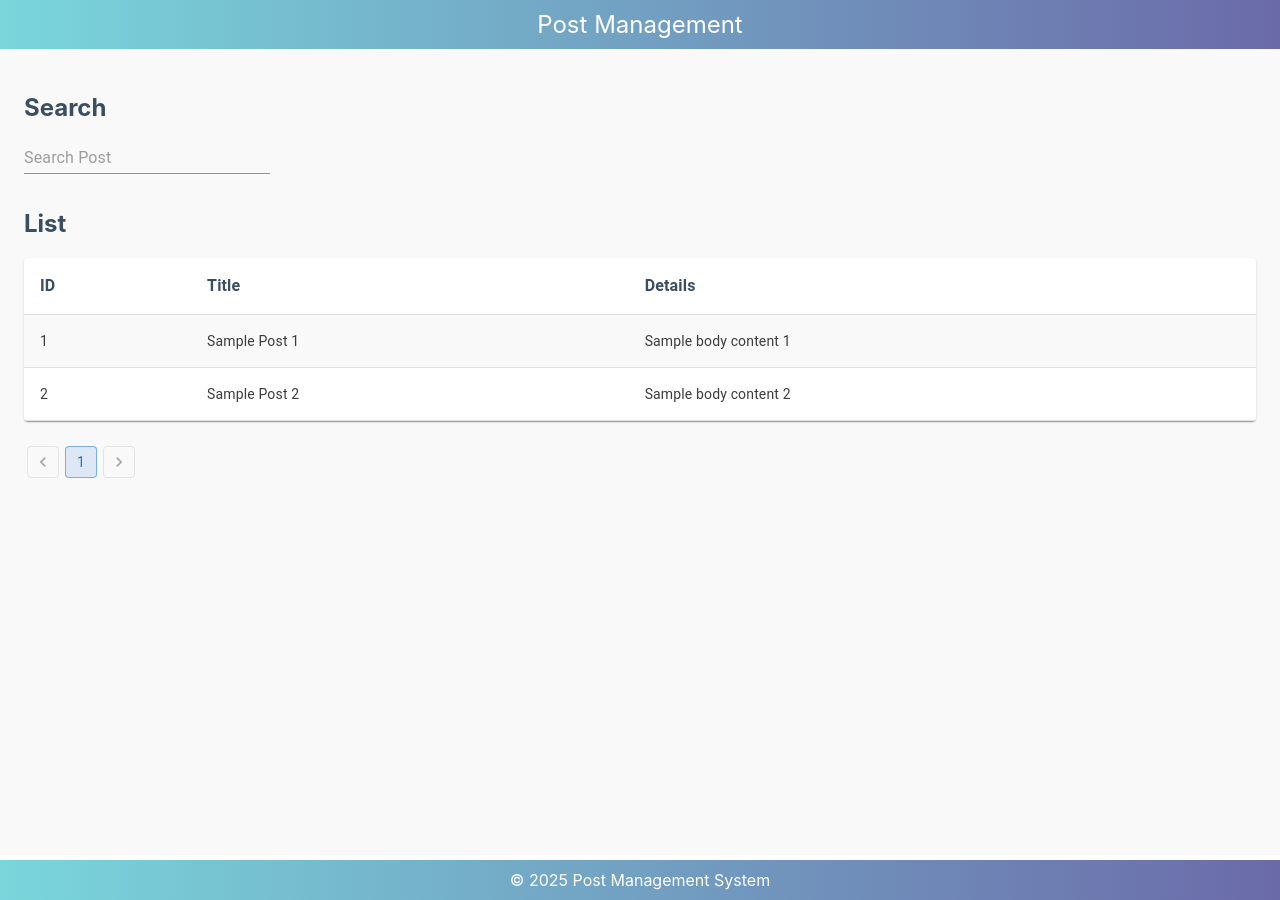
Scenario: PostList Component › filters posts based on search input
In the field with placeholder "Search Post": (147, 158) top-left (24, 142), bottom-right (270, 174), type "Post 1"
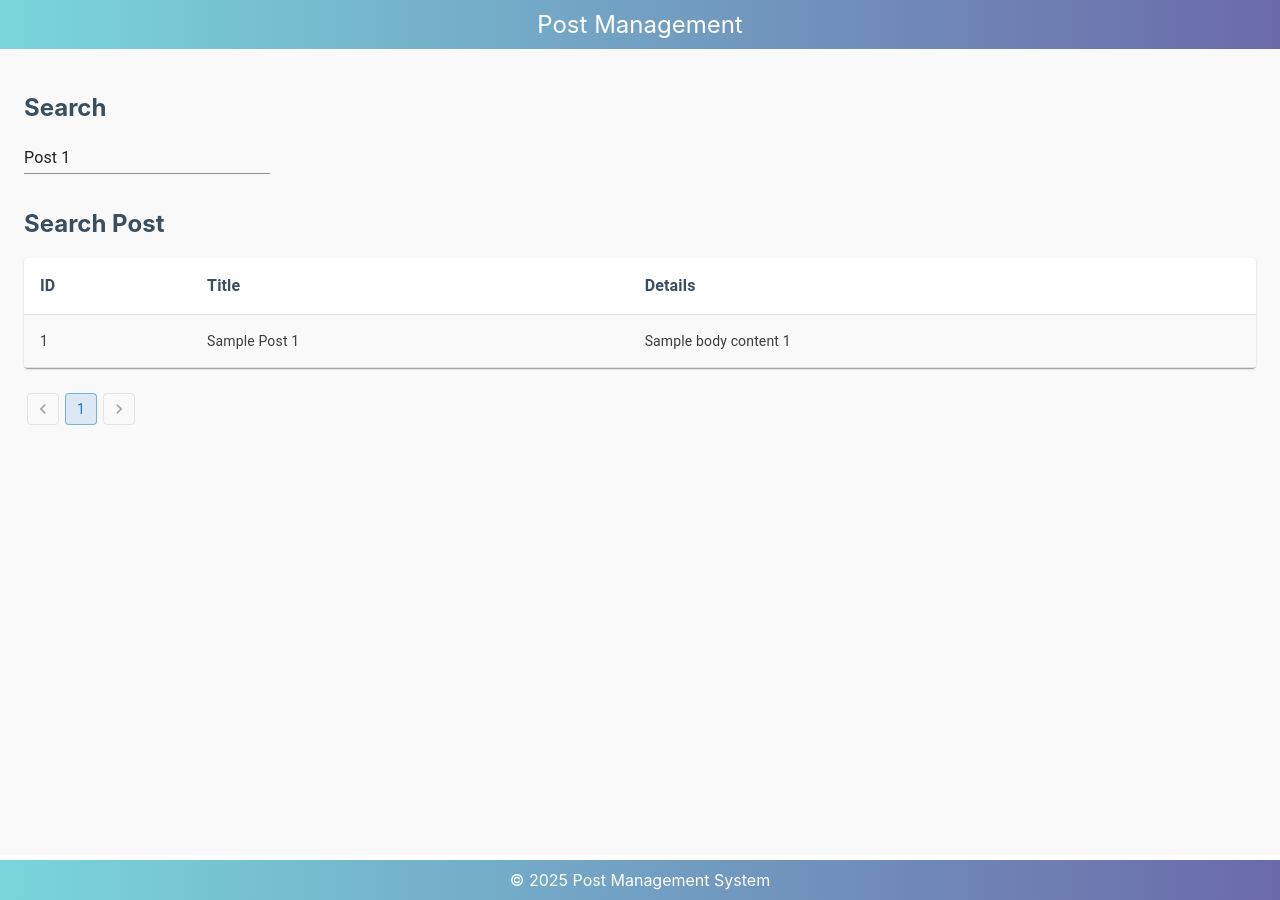
Expected: the text "Sample Post 1" is shown, top-left (191, 314), bottom-right (629, 367)
Expected: the text "Sample Post 2" is gone
